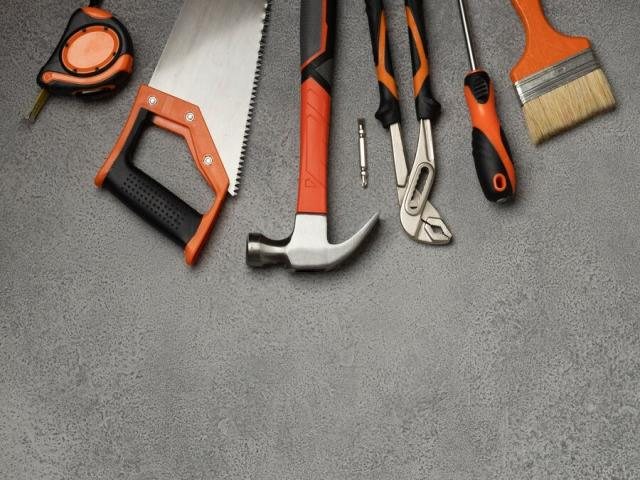Gas wrench: (366, 0, 451, 245)
Hammer: (246, 0, 379, 271)
Handsaw: (95, 0, 266, 264)
Screwdriver: (460, 0, 515, 202)
Tape measure: (26, 0, 134, 122)
